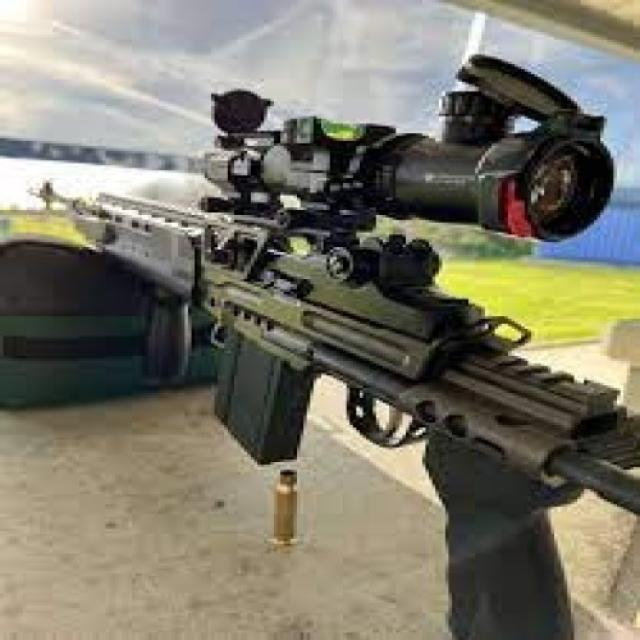Gun: (62, 60, 640, 640)
